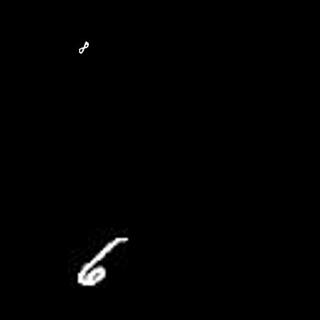eight: (73, 36, 90, 60)
six: (77, 236, 134, 286)
